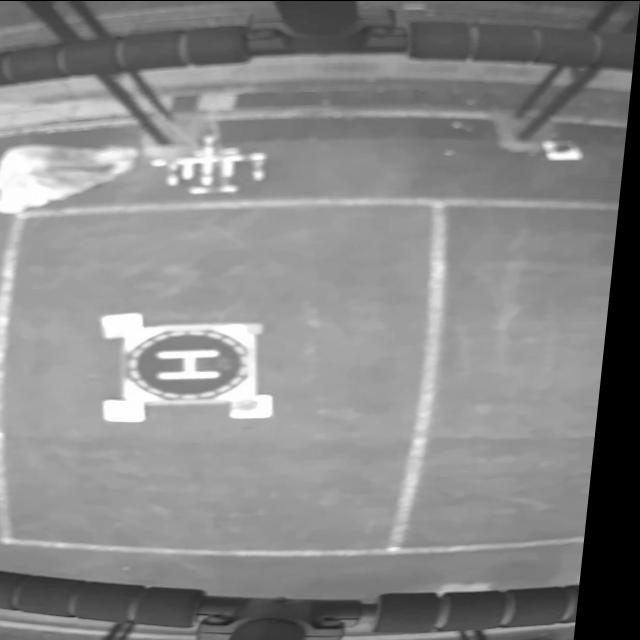Helipad: (165, 349, 229, 378)
